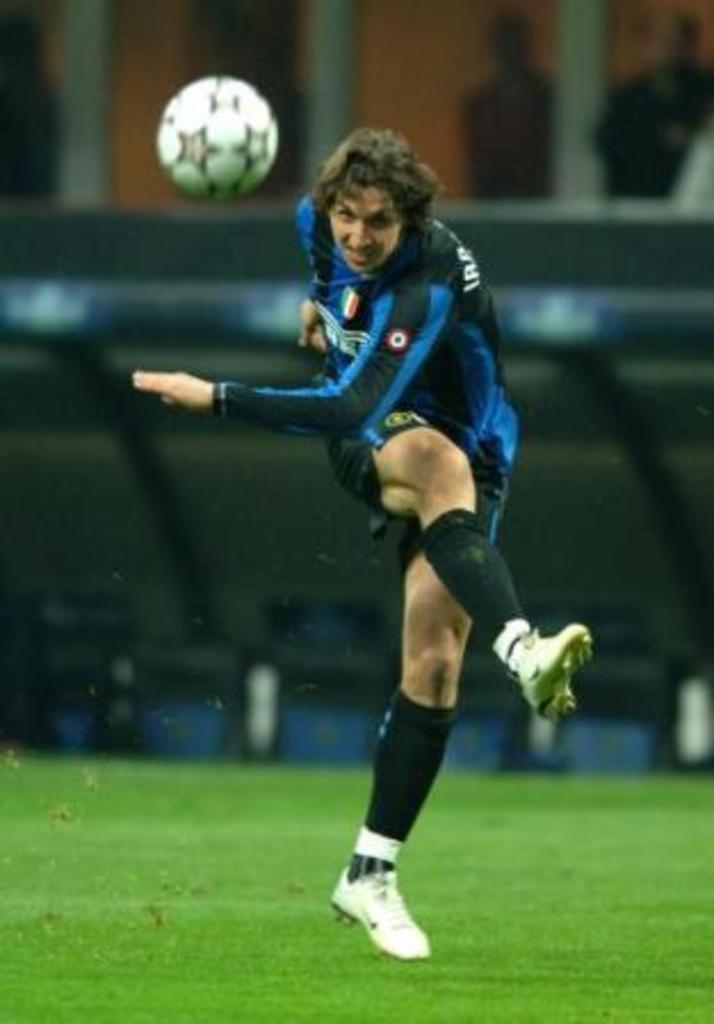Person: (131, 125, 591, 961)
